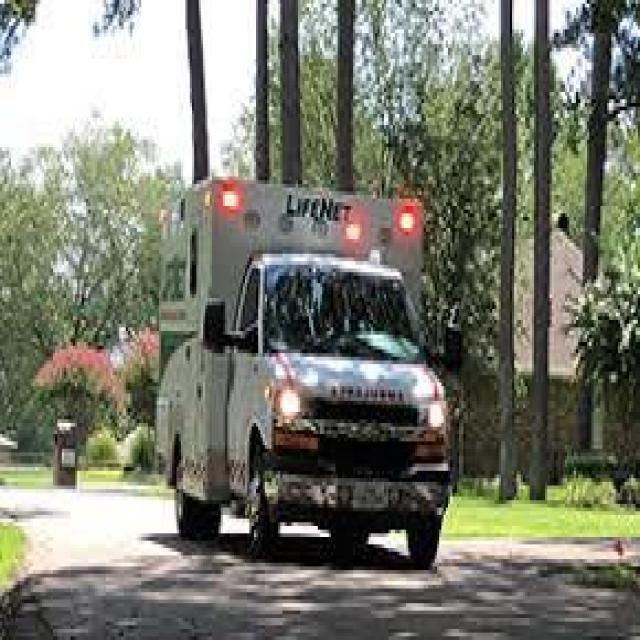ambulance: (199, 161, 451, 551)
